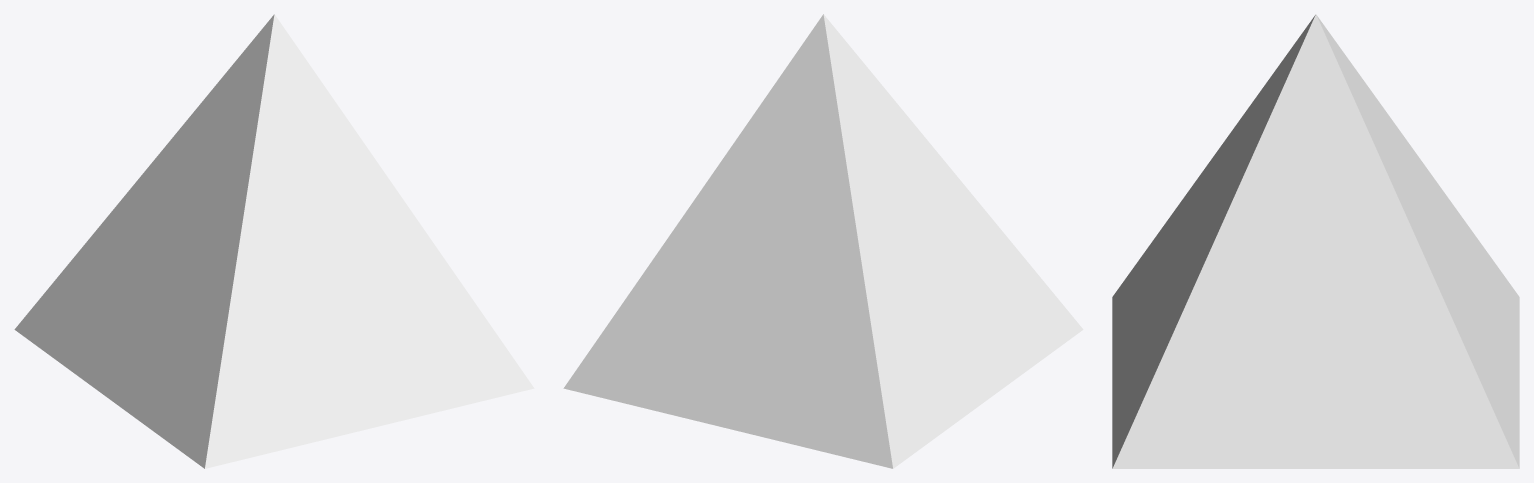
Rendered from triangleLikeThing.gltf.
3 views of the same model, side by side, from view 1: azimuth 30°, elevation 25°; view 2: azimuth 150°, elevation 25°; view 3: azimuth 270°, elevation 25° (orthographic). The views are drawn at different scales.
Parts seen in each view (by area): view 1: pyramid; view 2: pyramid; view 3: pyramid.
Boxes of the visible parts, x1,y1,x2,y2 form: pyramid: [14, 14, 534, 468]; pyramid: [563, 14, 1083, 468]; pyramid: [1112, 14, 1519, 468].
Bounding box in the file's own units: 0.5 × 0.5 × 0.5.
Materials: 1 (1 with a texture image).
